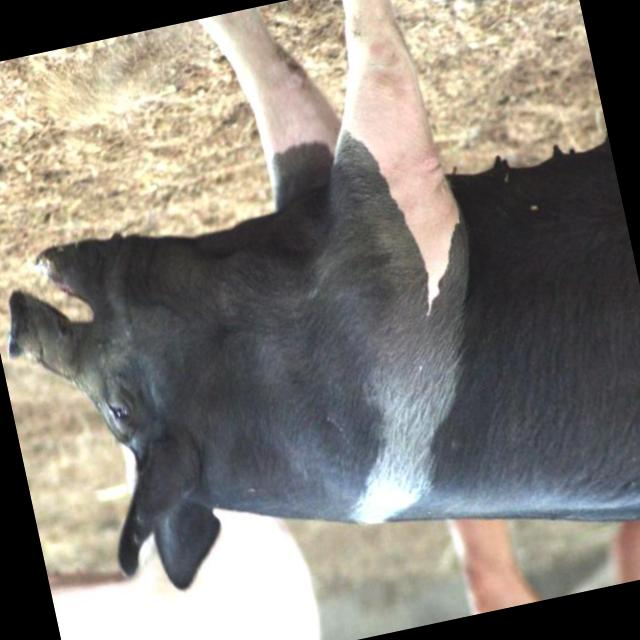pig: (8, 0, 640, 587)
